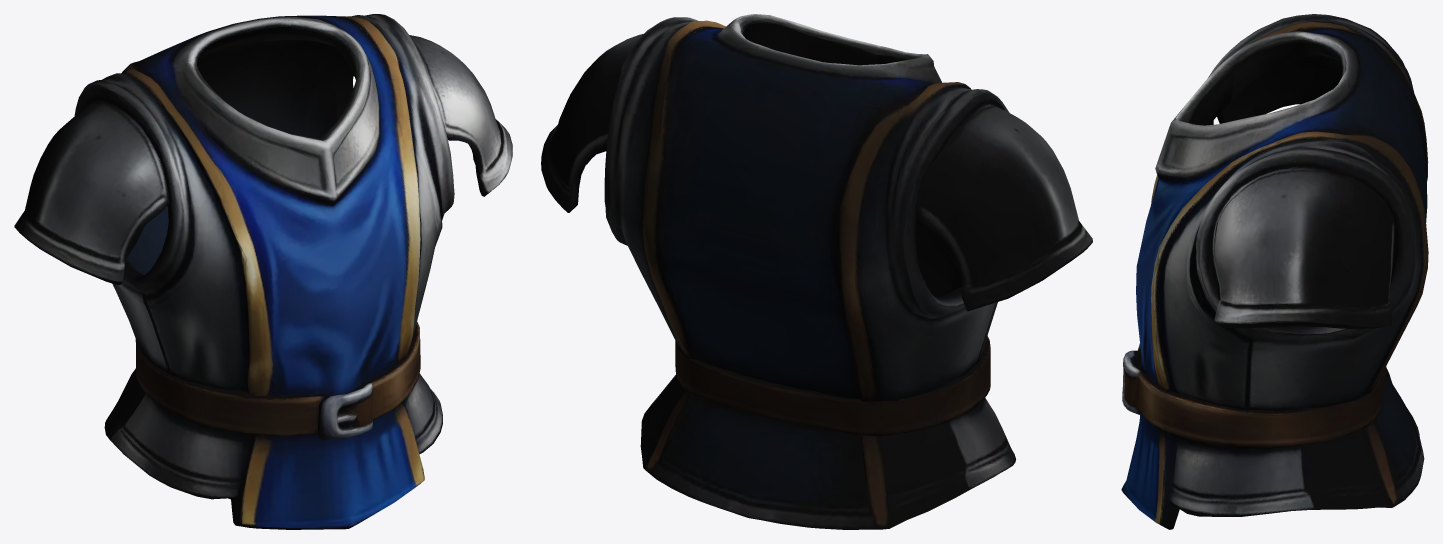
The model's file is guard_plate.glb.
3 renders of one model, left to right at view 1: azimuth 30°, elevation 25°; view 2: azimuth 150°, elevation 25°; view 3: azimuth 270°, elevation 25°, orthographic. The views are drawn at different scales.
Parts seen in each view (by area): view 1: world; view 2: world; view 3: world.
Part boxes in pixels (<box>): world: <box>14,14,512,529</box>; world: <box>541,14,1092,529</box>; world: <box>1121,14,1428,529</box>.
Size of the model in its own units: 0.6 by 0.5165 by 0.3335.
Materials: 1 (1 with a texture image).
